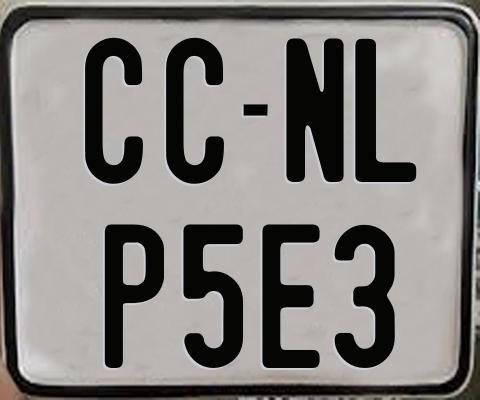3: (333, 224, 394, 373)
5: (182, 222, 245, 368)
C: (84, 38, 146, 190), (165, 38, 228, 186)
E: (260, 224, 320, 370)
L: (353, 38, 420, 182)
N: (285, 37, 343, 182)
P: (105, 222, 169, 369)
